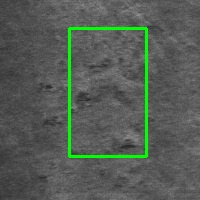rolled-in_scale: (69, 28, 146, 156)
